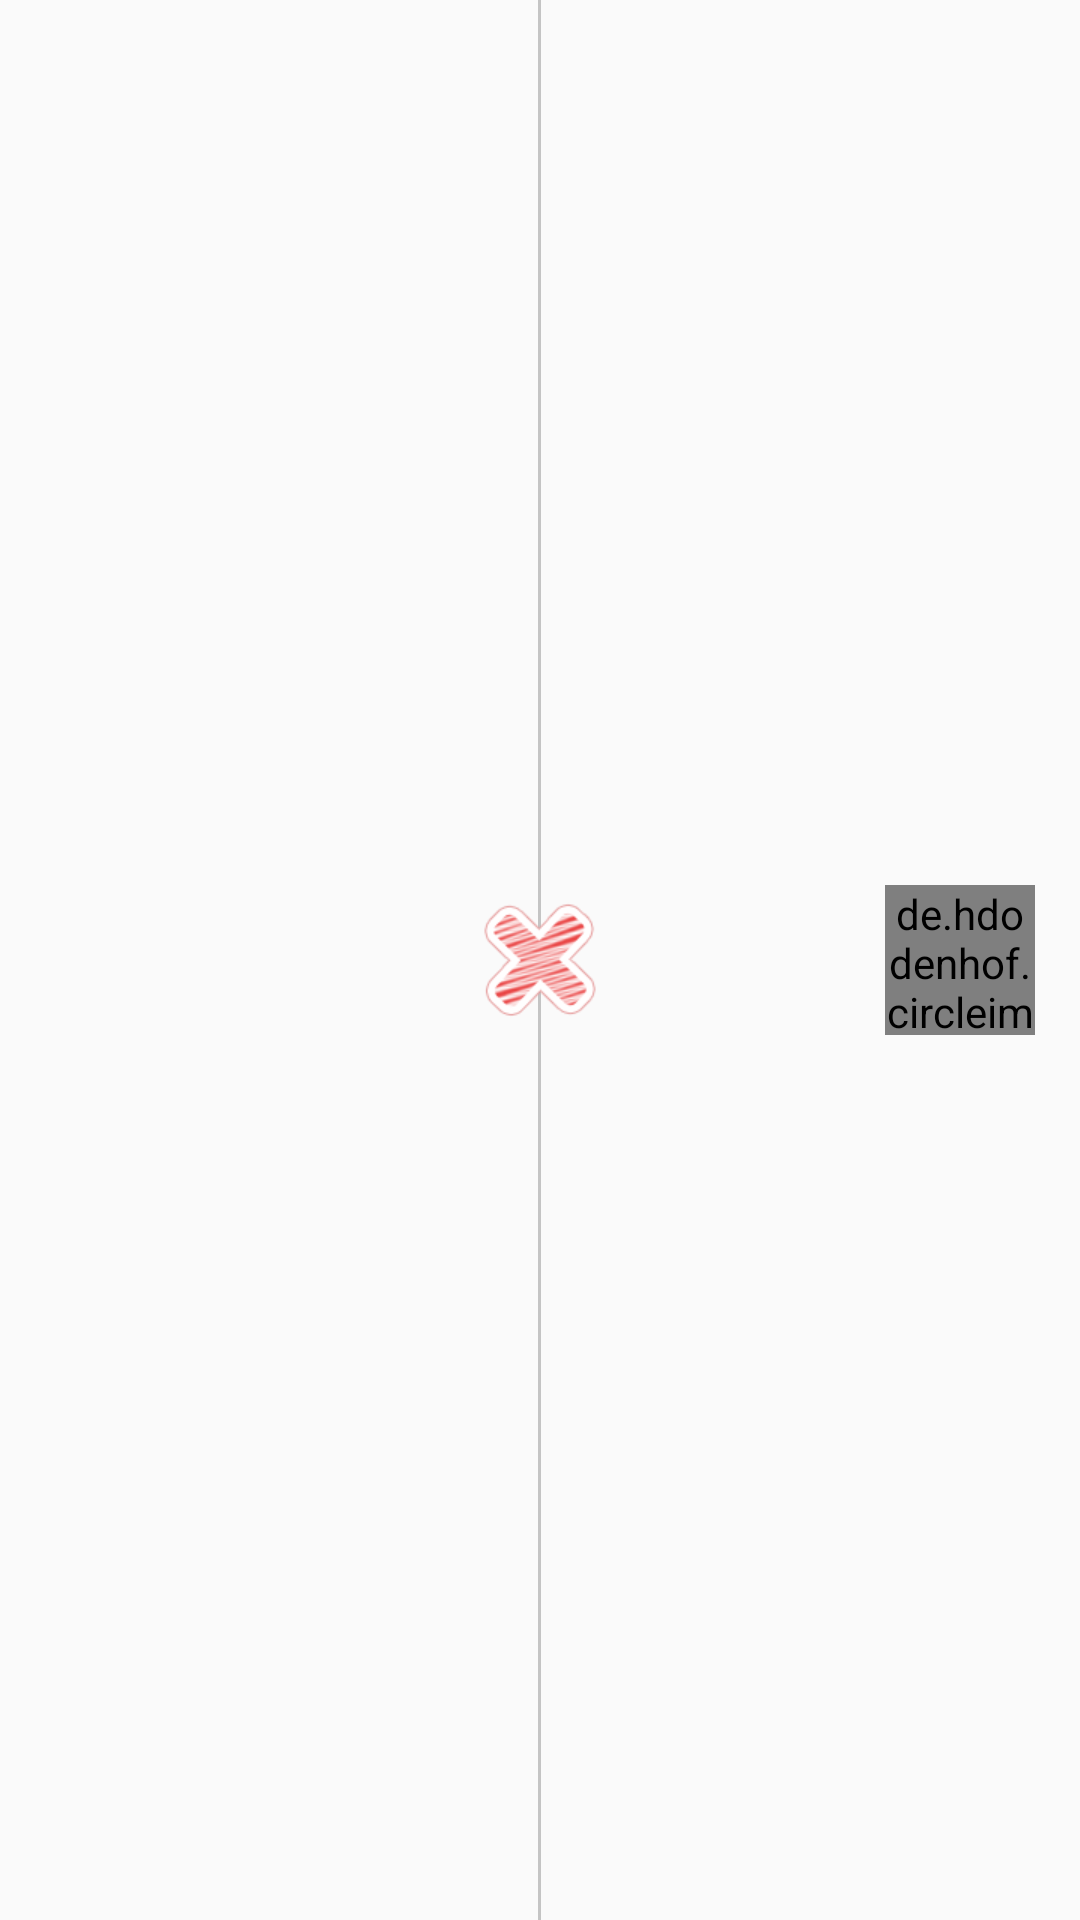

Named icons in this screenshot (1080px x 1920px) and their bounding boxes, (x1, y1, x2, y2):
item delete: (493, 914, 587, 1006)
